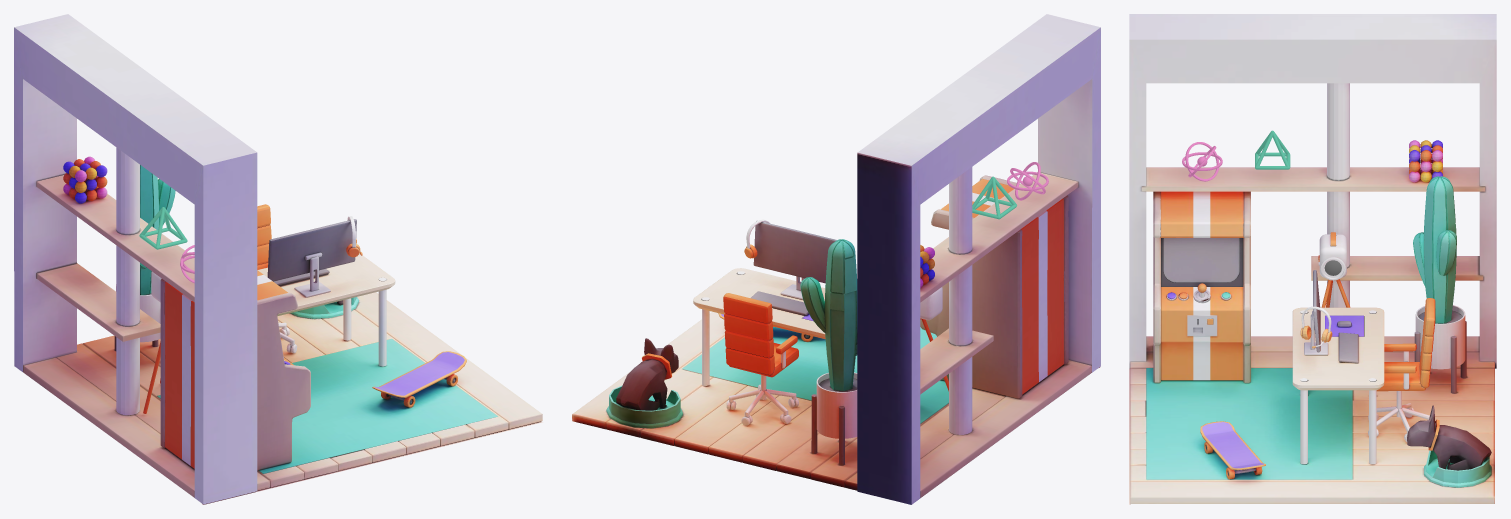
Rendered from room-draco.glb.
3 views of the same model, side by side, from view 1: azimuth 30°, elevation 25°; view 2: azimuth 150°, elevation 25°; view 3: azimuth 270°, elevation 25° (orthographic). The views are drawn at different scales.
Parts seen in each view (by area): view 1: Level, Cactus, Pyramid; view 2: Level, Cactus, monitor, Sudo, Pyramid, React, SudoHead; view 3: Level, Cactus, game, Sudo, Camera.001, SudoHead, React, Pyramid.
Boxes of the visible parts, x1=… form: Level: x1=14, y1=14, x2=542, y2=504; Cactus: x1=140, y1=165, x2=175, y2=295; Pyramid: x1=139, y1=207, x2=187, y2=249; Level: x1=572, y1=14, x2=1100, y2=504; Cactus: x1=800, y1=239, x2=857, y2=391; monitor: x1=754, y1=223, x2=833, y2=282; Sudo: x1=616, y1=359, x2=667, y2=410; Pyramid: x1=972, y1=176, x2=1016, y2=219; React: x1=1007, y1=162, x2=1048, y2=200; SudoHead: x1=642, y1=338, x2=678, y2=379; Level: x1=1129, y1=14, x2=1496, y2=504; Cactus: x1=1413, y1=176, x2=1456, y2=323; game: x1=1163, y1=238, x2=1239, y2=282; Sudo: x1=1433, y1=425, x2=1491, y2=470; Camera.001: x1=1318, y1=232, x2=1346, y2=280; SudoHead: x1=1407, y1=405, x2=1439, y2=450; React: x1=1182, y1=142, x2=1222, y2=181; Pyramid: x1=1255, y1=130, x2=1290, y2=169.
Size of the model in its own units: 2 by 1.9 by 1.92.
5 materials, 2 textured.
